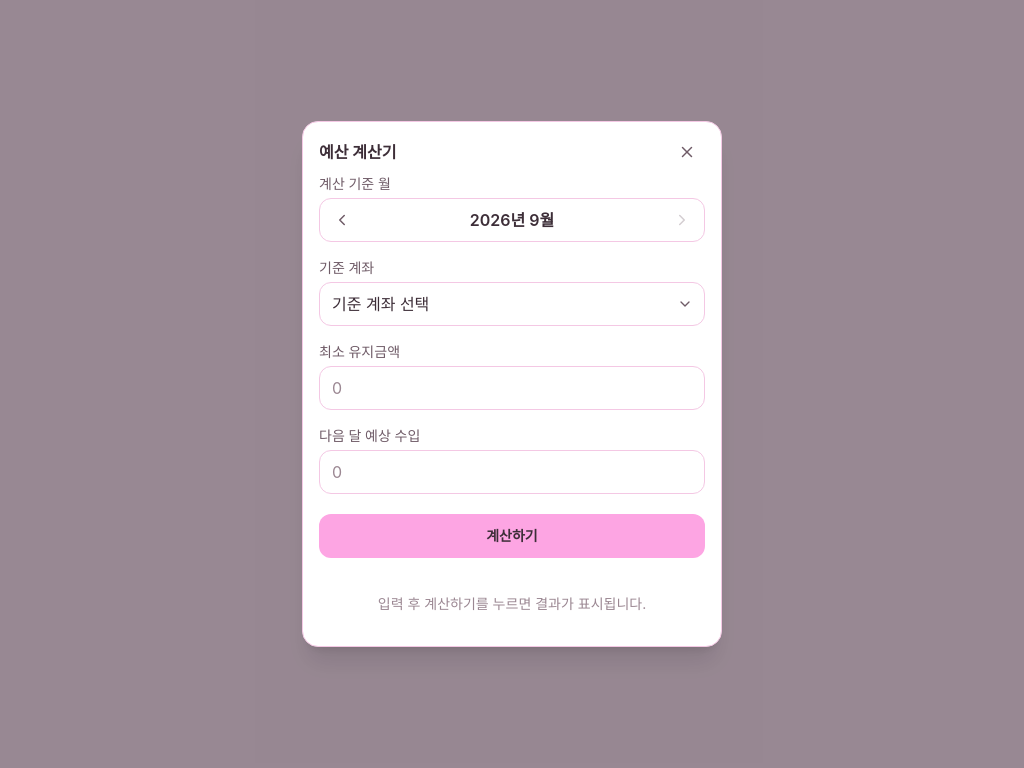
Test case: BudgetCalculatorModal › 오늘 이후 잔액 기준일은 막고 조회하지 않는다
Click the button named "이전 달" at (342, 220), box [324,202,360,238]
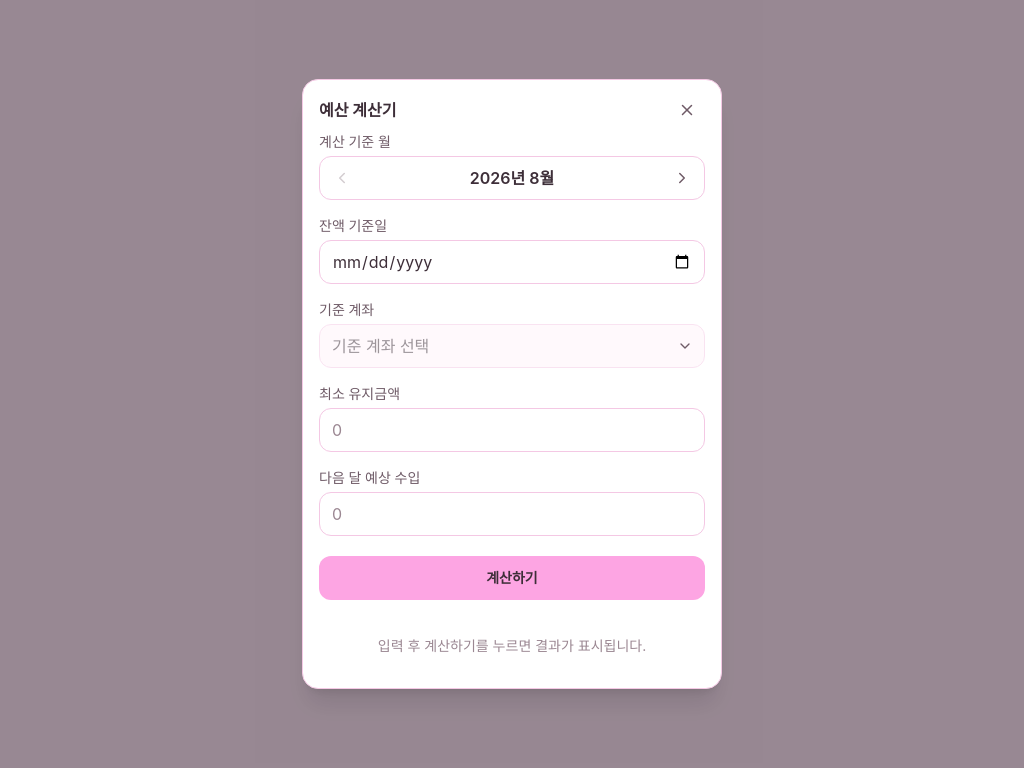
Type "2026-09-21" into the date field labelled "잔액 기준일" at (512, 262), box [319,240,705,284]
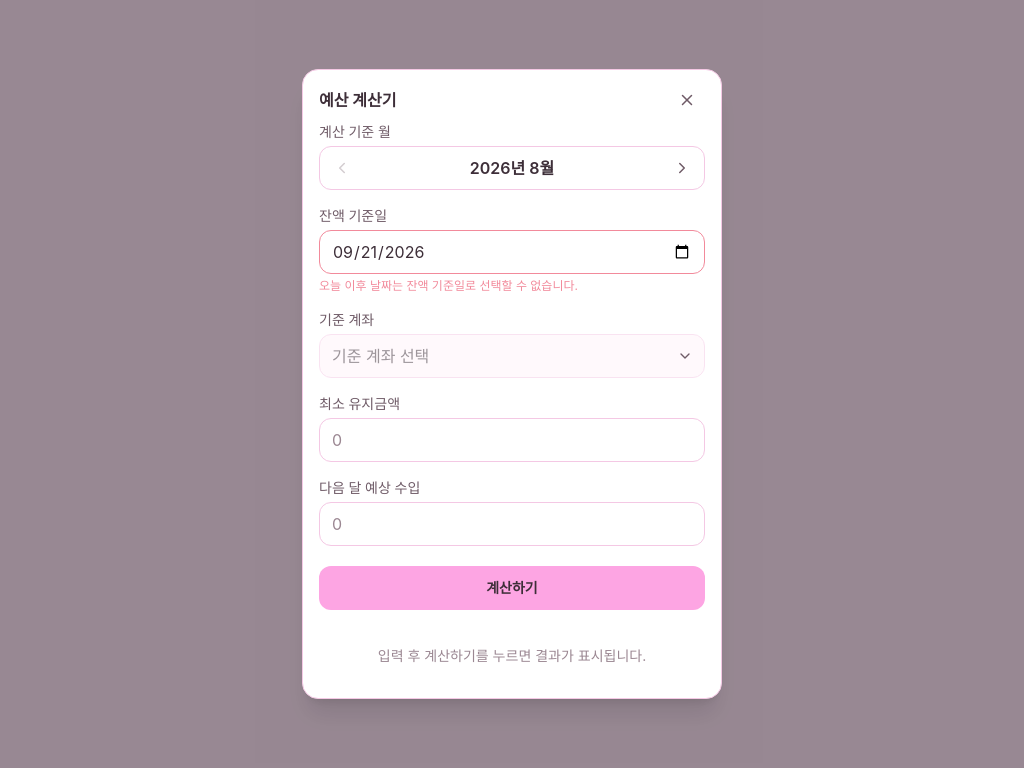
Result: the text "오늘 이후 날짜는 잔액 기준일로 선택할 수 없습니다." is shown at [319,278,578,293]
